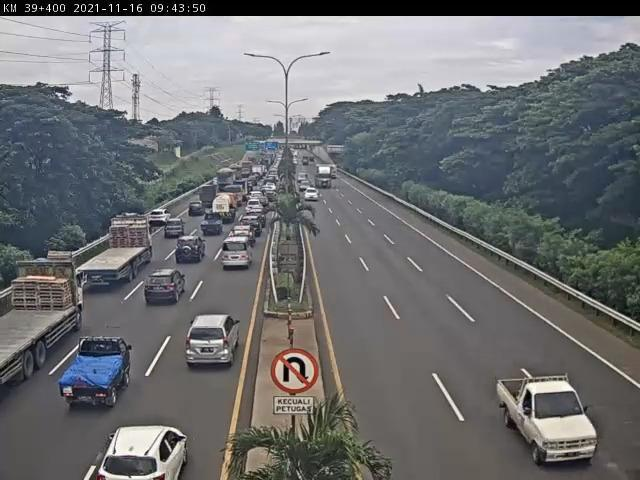car: (498, 378, 601, 469), (60, 336, 132, 407), (97, 428, 189, 480), (185, 315, 242, 373), (143, 271, 183, 308), (220, 240, 254, 275), (174, 237, 205, 267), (200, 213, 224, 238), (231, 227, 255, 252), (241, 216, 263, 236), (164, 221, 186, 241), (151, 209, 173, 225), (249, 209, 269, 225), (187, 203, 204, 219), (247, 200, 265, 214), (249, 193, 265, 202), (307, 192, 320, 203)
truck: (1, 263, 85, 388), (75, 217, 152, 285), (214, 195, 237, 225), (215, 170, 235, 193), (197, 189, 218, 210), (226, 185, 245, 206), (317, 167, 333, 189)
